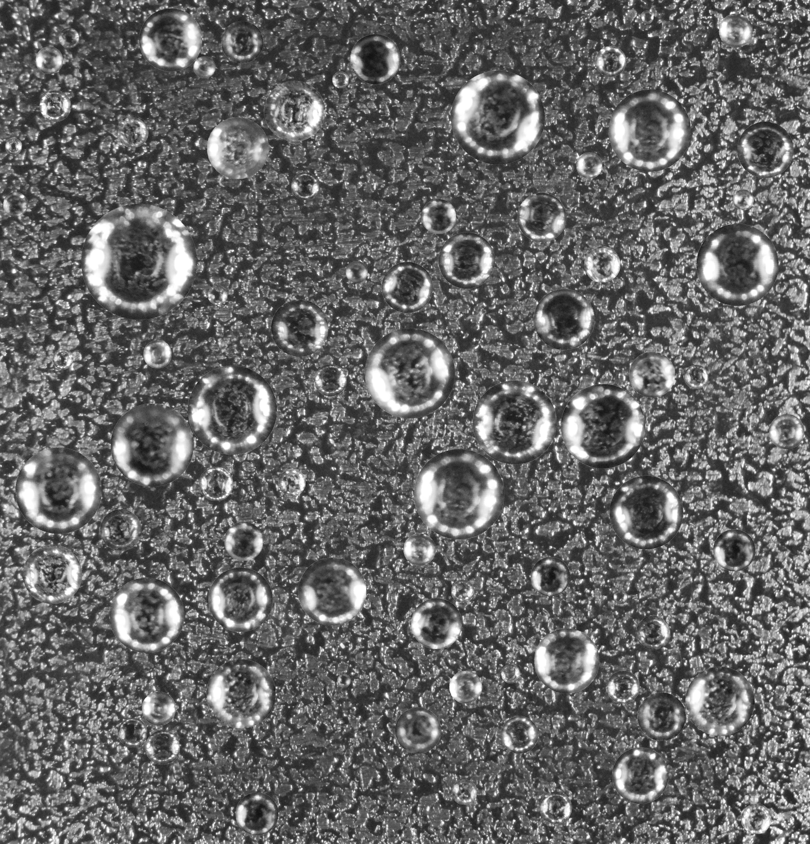Bubble: (81, 203, 196, 319), (451, 70, 544, 164), (414, 449, 504, 539), (364, 328, 454, 418), (187, 365, 276, 454), (15, 447, 101, 533), (561, 384, 645, 468), (472, 380, 556, 464), (110, 403, 193, 486), (608, 89, 690, 171), (696, 223, 778, 305), (109, 577, 184, 652), (609, 475, 683, 549), (685, 666, 754, 735), (206, 659, 275, 728), (298, 557, 366, 625), (534, 628, 599, 693), (208, 567, 272, 631), (139, 8, 202, 71), (207, 117, 268, 178), (264, 80, 324, 141), (533, 289, 594, 349), (22, 544, 81, 603), (271, 299, 328, 356), (438, 232, 494, 288), (612, 747, 668, 803), (737, 121, 793, 177), (381, 261, 432, 312), (411, 598, 462, 649), (350, 34, 400, 84), (517, 192, 566, 241), (637, 692, 685, 740), (395, 707, 441, 753), (629, 351, 675, 397), (235, 792, 278, 835), (713, 529, 755, 571), (221, 21, 263, 63), (100, 509, 141, 550), (530, 557, 570, 596), (224, 522, 263, 560), (500, 716, 538, 753), (584, 246, 620, 282), (769, 414, 804, 449), (421, 199, 456, 233), (636, 615, 670, 650), (145, 730, 179, 764), (141, 691, 175, 725), (199, 466, 233, 500), (719, 13, 752, 47), (606, 670, 639, 703), (449, 670, 481, 703), (116, 115, 148, 147), (403, 533, 435, 565), (314, 364, 346, 396), (539, 791, 571, 823), (39, 90, 70, 121), (741, 803, 771, 834), (595, 46, 626, 76), (117, 718, 147, 747), (143, 340, 171, 368), (291, 172, 319, 200), (278, 468, 305, 496), (35, 46, 62, 73), (576, 152, 602, 178), (451, 779, 477, 804), (684, 364, 708, 388), (3, 192, 27, 216), (451, 579, 474, 602), (193, 56, 215, 78), (345, 261, 367, 282), (52, 348, 73, 369), (58, 27, 79, 48), (733, 189, 753, 210), (207, 285, 227, 304), (501, 664, 520, 683), (332, 71, 348, 88), (5, 138, 21, 154), (613, 590, 627, 604), (337, 674, 350, 687), (640, 10, 653, 23)
